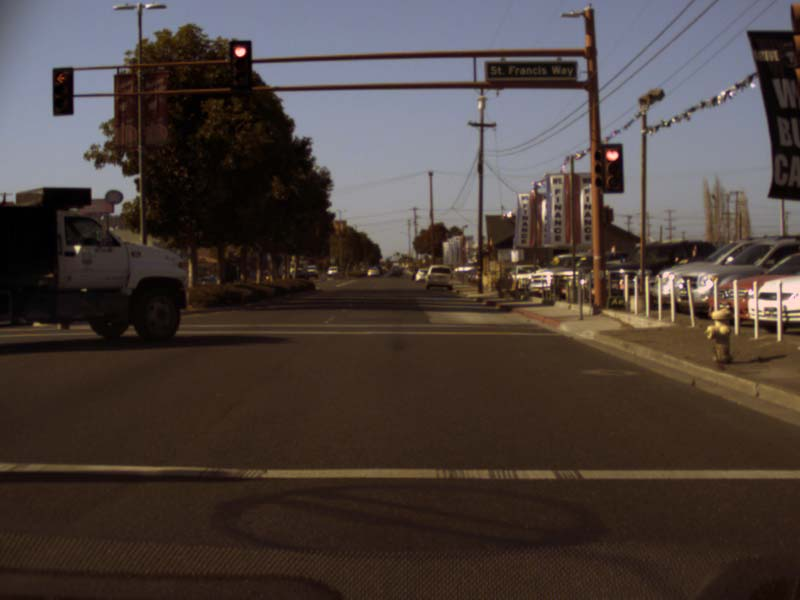Red: (600, 143, 622, 195), (229, 40, 251, 90), (51, 67, 73, 116)
